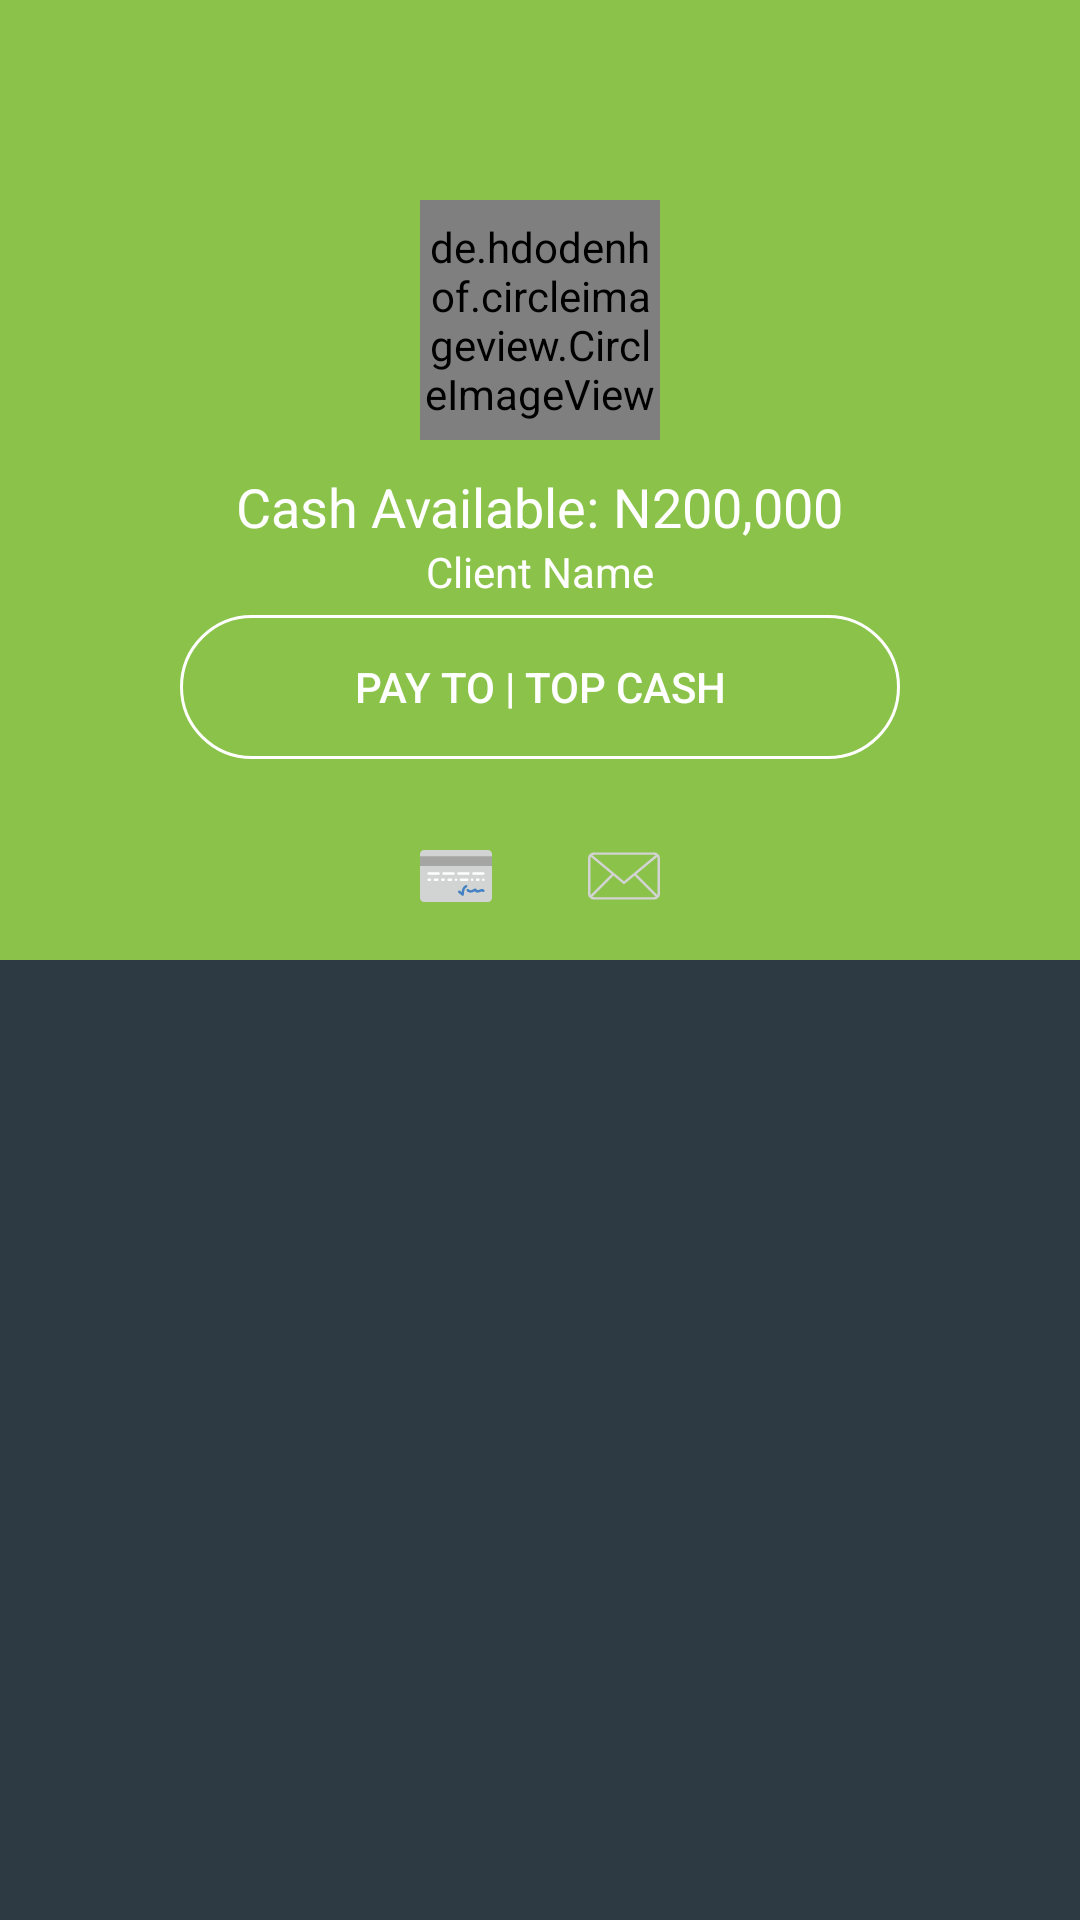

Where to tap for icons on this 1080 x 1920 app screen, as [x,y]:
credit card: [456,876]
email: [624,876]
